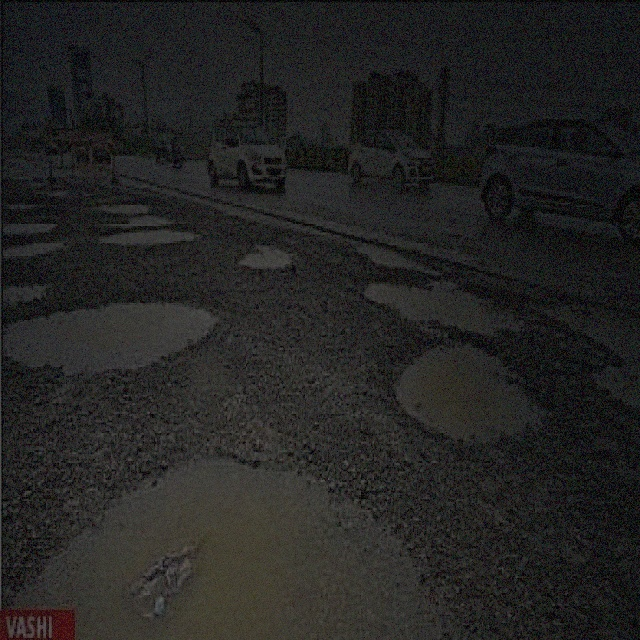pothole: (0, 448, 450, 638), (0, 290, 219, 376), (391, 339, 538, 442), (366, 271, 516, 337), (101, 224, 194, 247), (238, 239, 294, 271), (0, 213, 62, 235), (0, 237, 63, 256), (95, 198, 151, 214)
